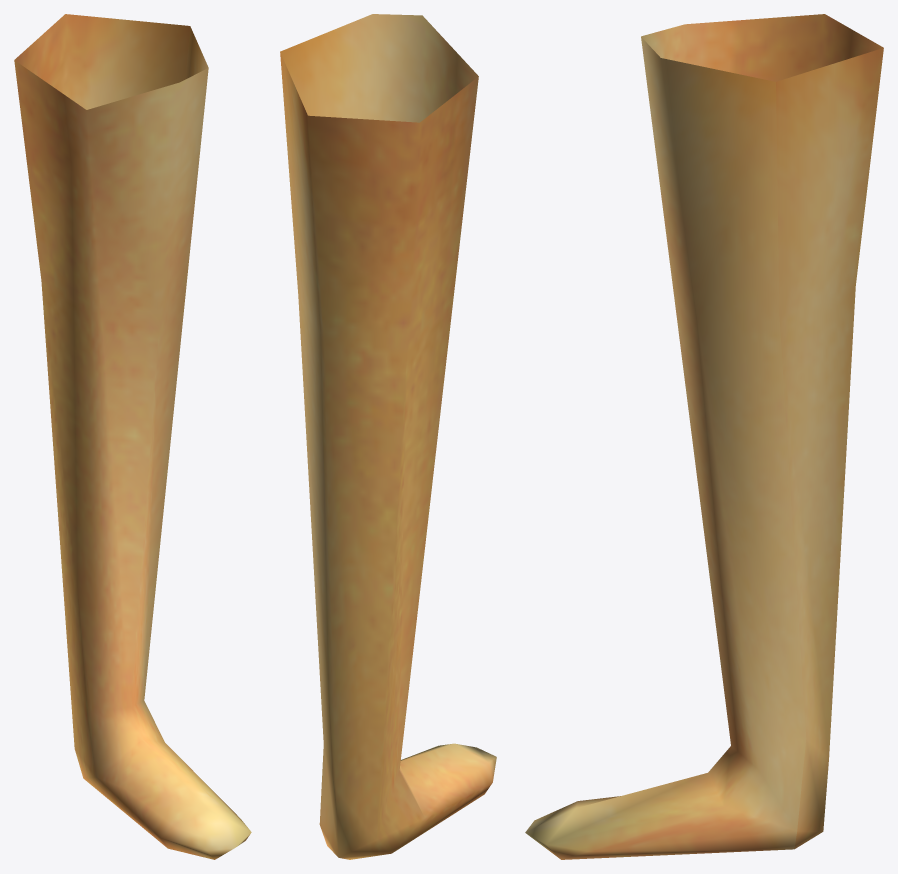
The model's file is PiernaDer_A.obj.
3 views of the same model, side by side, from view 1: azimuth 30°, elevation 25°; view 2: azimuth 150°, elevation 25°; view 3: azimuth 270°, elevation 25° (orthographic). The views are drawn at different scales.
Visible parts, largest first — view 1: PiernaDerA; view 2: PiernaDerA; view 3: PiernaDerA.
Boxes of the visible parts, left/top/right/bottom form: PiernaDerA: left=14, top=14, right=251, bottom=859; PiernaDerA: left=280, top=14, right=496, bottom=859; PiernaDerA: left=525, top=14, right=883, bottom=859.
Size of the model in its own units: 2.73 by 12.6 by 5.04.
